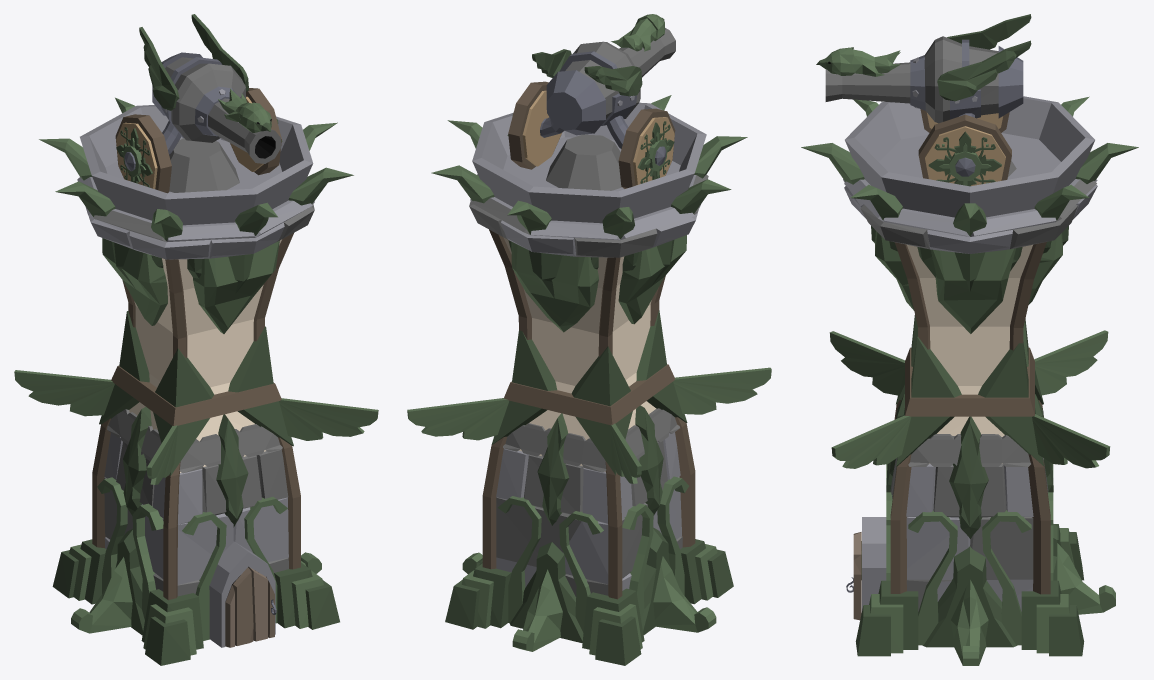
Rendered from Cannon Tower 4.obj.
The picture shows the model from 3 angles, left to right: view 1: azimuth 30°, elevation 25°; view 2: azimuth 150°, elevation 25°; view 3: azimuth 270°, elevation 25°; orthographic projection. The views are drawn at different scales.
Parts seen in each view (by area): view 1: Cannon_tower_LVL_4; view 2: Cannon_tower_LVL_4; view 3: Cannon_tower_LVL_4.
Boxes of the visible parts, bbox=[...] form: Cannon_tower_LVL_4: bbox=[14, 14, 378, 665]; Cannon_tower_LVL_4: bbox=[407, 14, 771, 665]; Cannon_tower_LVL_4: bbox=[801, 14, 1138, 665].
Bounding box in the file's own units: 8.02 × 15.2 × 8.02.
1 material, 1 textured.
